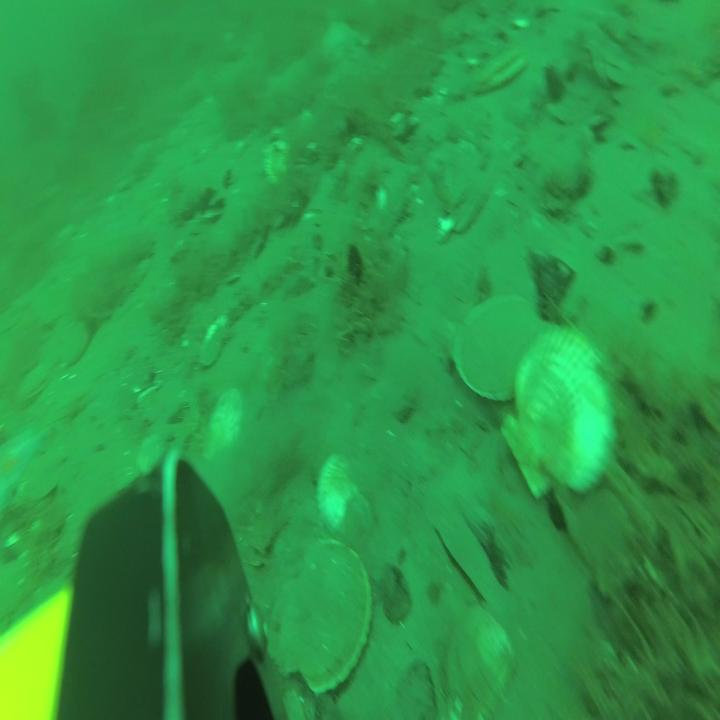scallop: (500, 323, 611, 499), (269, 547, 369, 691), (454, 294, 544, 402), (443, 592, 516, 718), (317, 444, 351, 526), (448, 169, 488, 232), (440, 134, 477, 199), (204, 390, 241, 454), (59, 314, 98, 374), (474, 48, 526, 92), (199, 312, 229, 365), (262, 140, 292, 187), (14, 364, 45, 404), (344, 500, 373, 542), (136, 438, 161, 476)
starfish: (1, 424, 40, 517), (319, 19, 362, 57)
